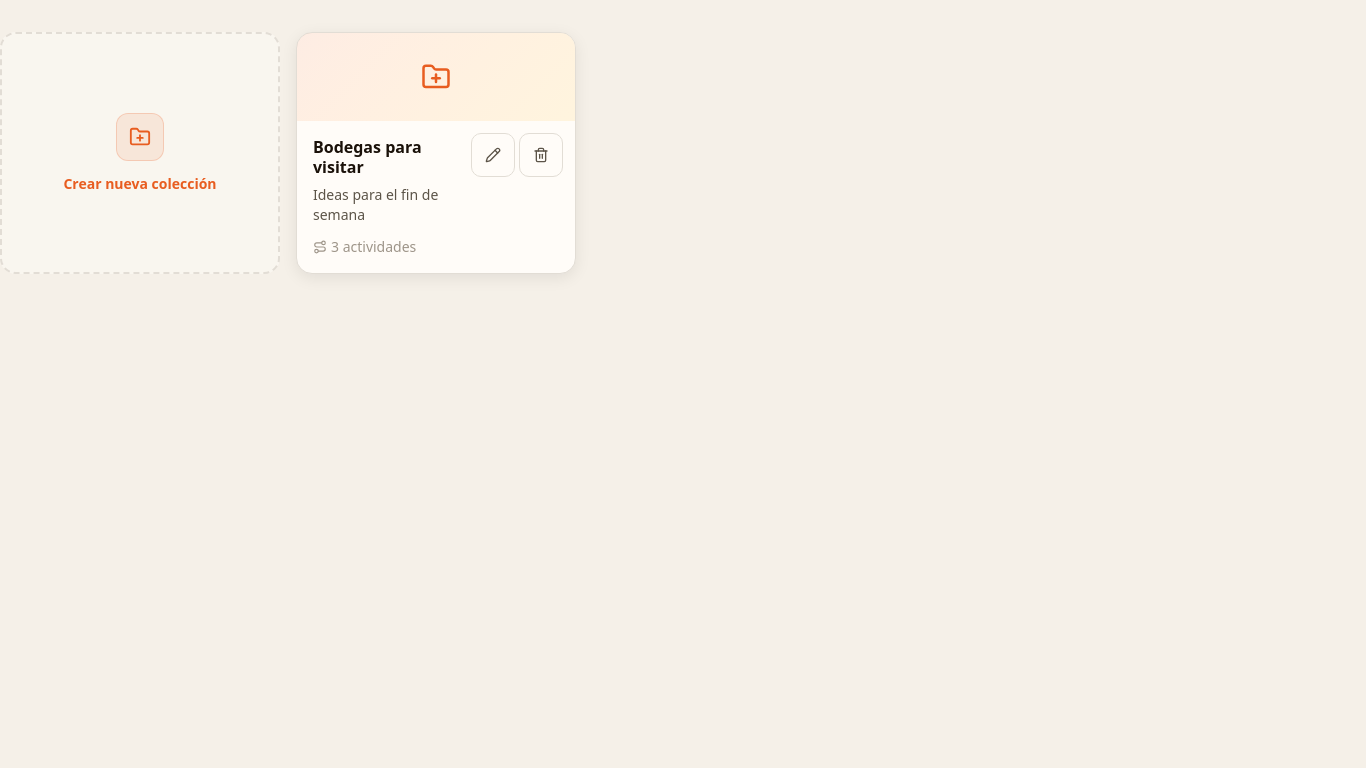
Test: CollectionsPanel › keeps the collection visible when deletion fails
Click the button named "Eliminar Bodegas para visitar".
click(541, 155)  # box x1=519 y1=133 x2=563 y2=177
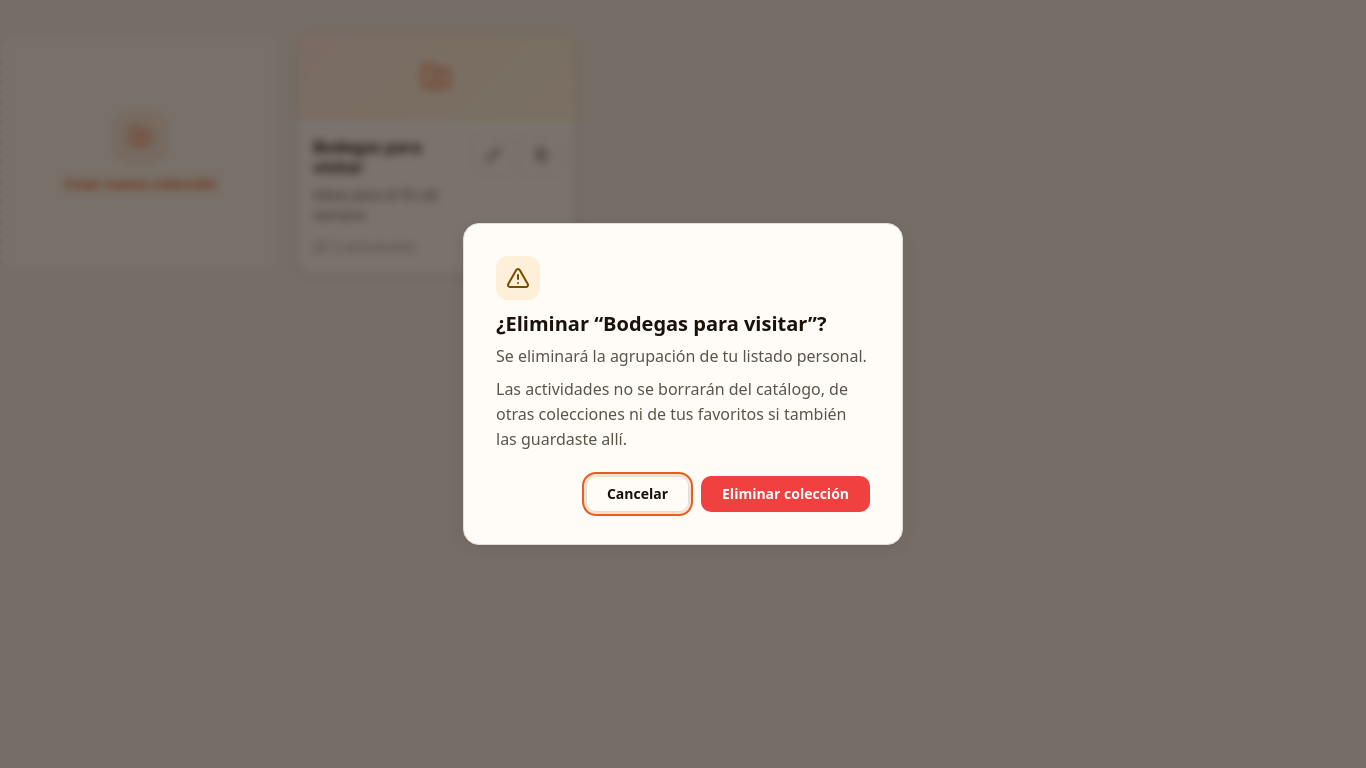
Click the button "Eliminar colección".
click(786, 494)  # box x1=701 y1=476 x2=870 y2=512
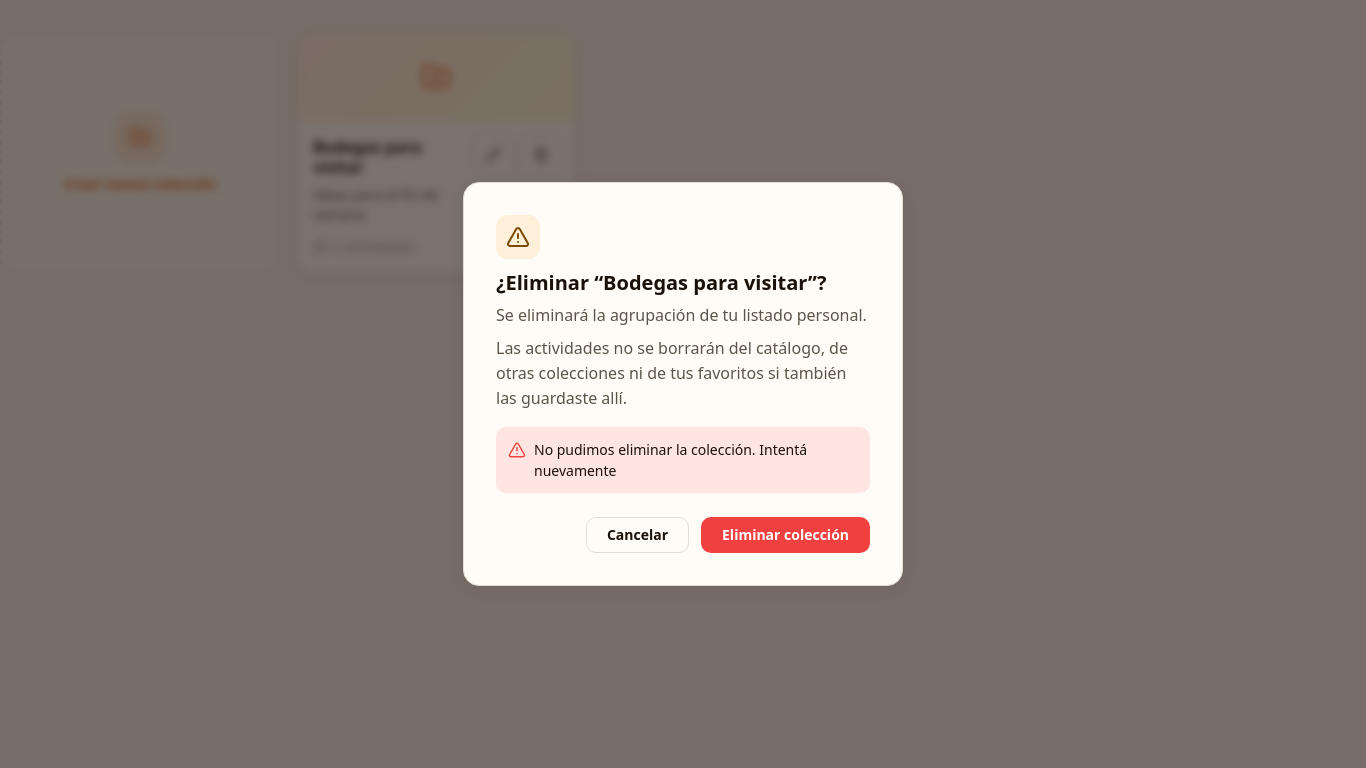
Expected: the heading "Bodegas para visitar" is shown, x1=313 y1=136 x2=422 y2=178
Now the text "No pudimos eliminar la colección. Intentá nuevamente" is shown, box x1=496 y1=427 x2=870 y2=493
